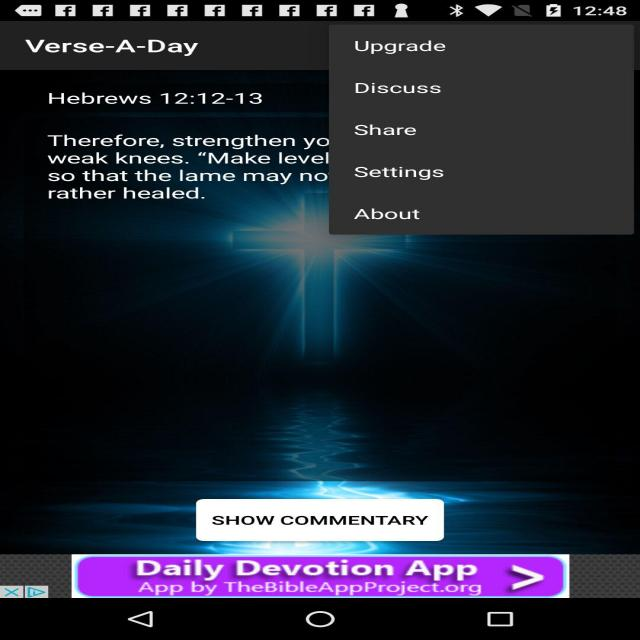button: (79, 557, 565, 595), (325, 111, 640, 150), (330, 68, 640, 106), (199, 500, 448, 544), (333, 28, 638, 63), (333, 197, 635, 231), (331, 156, 640, 189), (0, 586, 24, 598), (25, 586, 49, 598)
image: (72, 555, 570, 599)
text: (22, 118, 328, 206), (15, 86, 296, 114), (16, 33, 233, 63), (209, 507, 436, 535), (338, 160, 464, 184), (344, 33, 458, 58), (341, 77, 449, 101), (344, 120, 434, 143), (346, 203, 439, 224)
